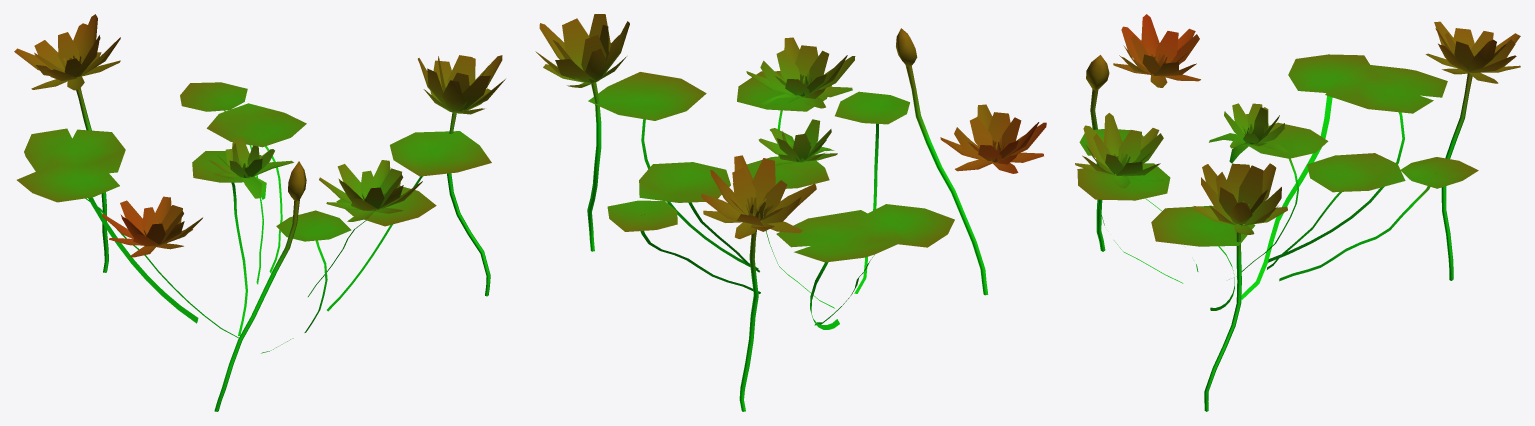
The model's file is Rembrandt Water Lily_LOD1_Var7_uc2kajgia.fbx.
The picture shows the model from 3 angles, left to right: view 1: azimuth 30°, elevation 25°; view 2: azimuth 150°, elevation 25°; view 3: azimuth 270°, elevation 25°; orthographic projection. The views are drawn at different scales.
Visible parts, largest first — view 1: merge1; view 2: merge1; view 3: merge1.
Boxes of the visible parts, <box> form: merge1: <box>14,14,505,411</box>; merge1: <box>535,14,1046,411</box>; merge1: <box>1075,14,1520,411</box>.
Size of the model in its own units: 125 by 67.53 by 110.
